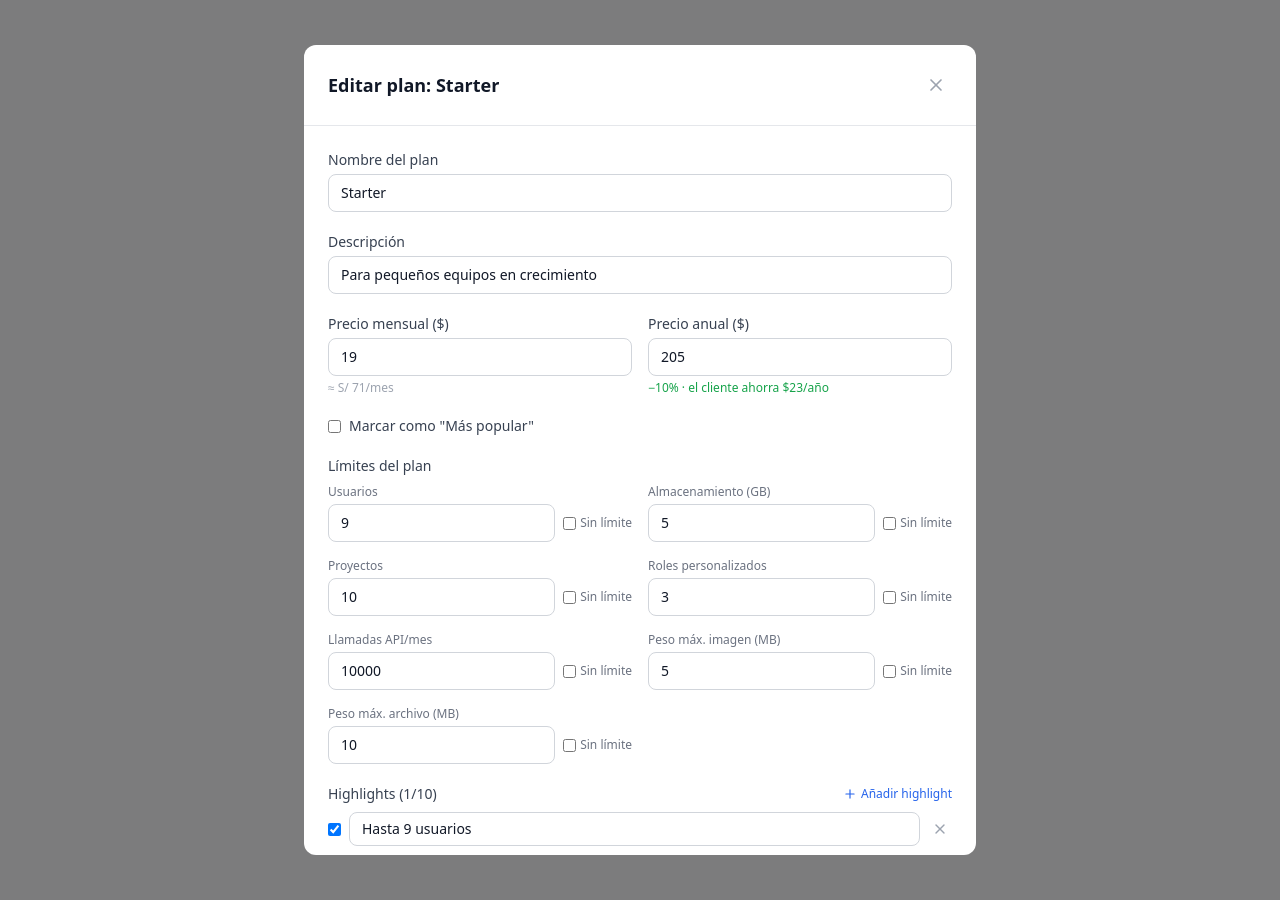
PlanEditModal — errores del backend › usa el detail del backend cuando viene
Replace the text in the number field labelled "Precio anual ($)" with "200" at x=800, y=357, box [648,338,952,376]
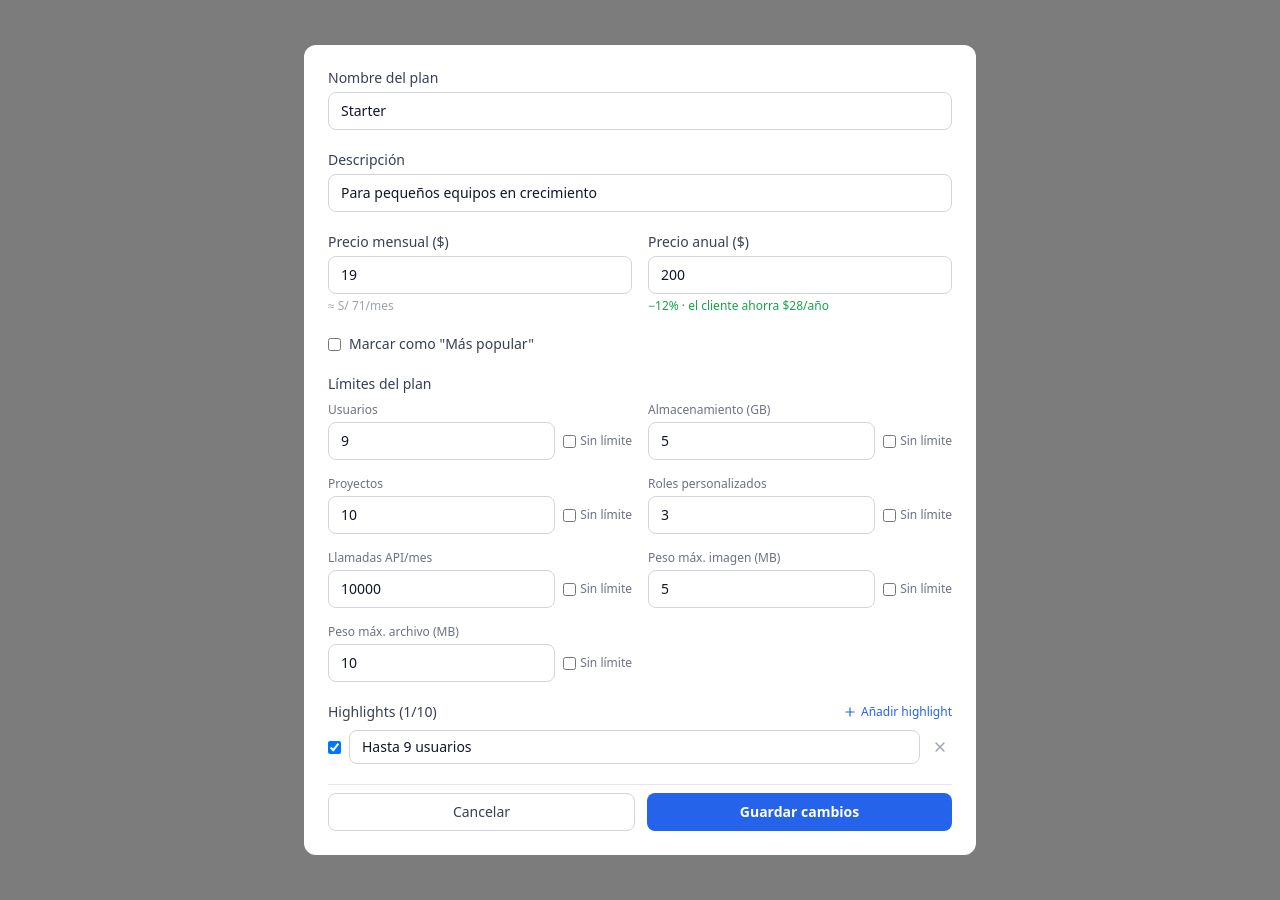
Click the button "Guardar cambios".
click(800, 812)  # box [647,793,952,831]
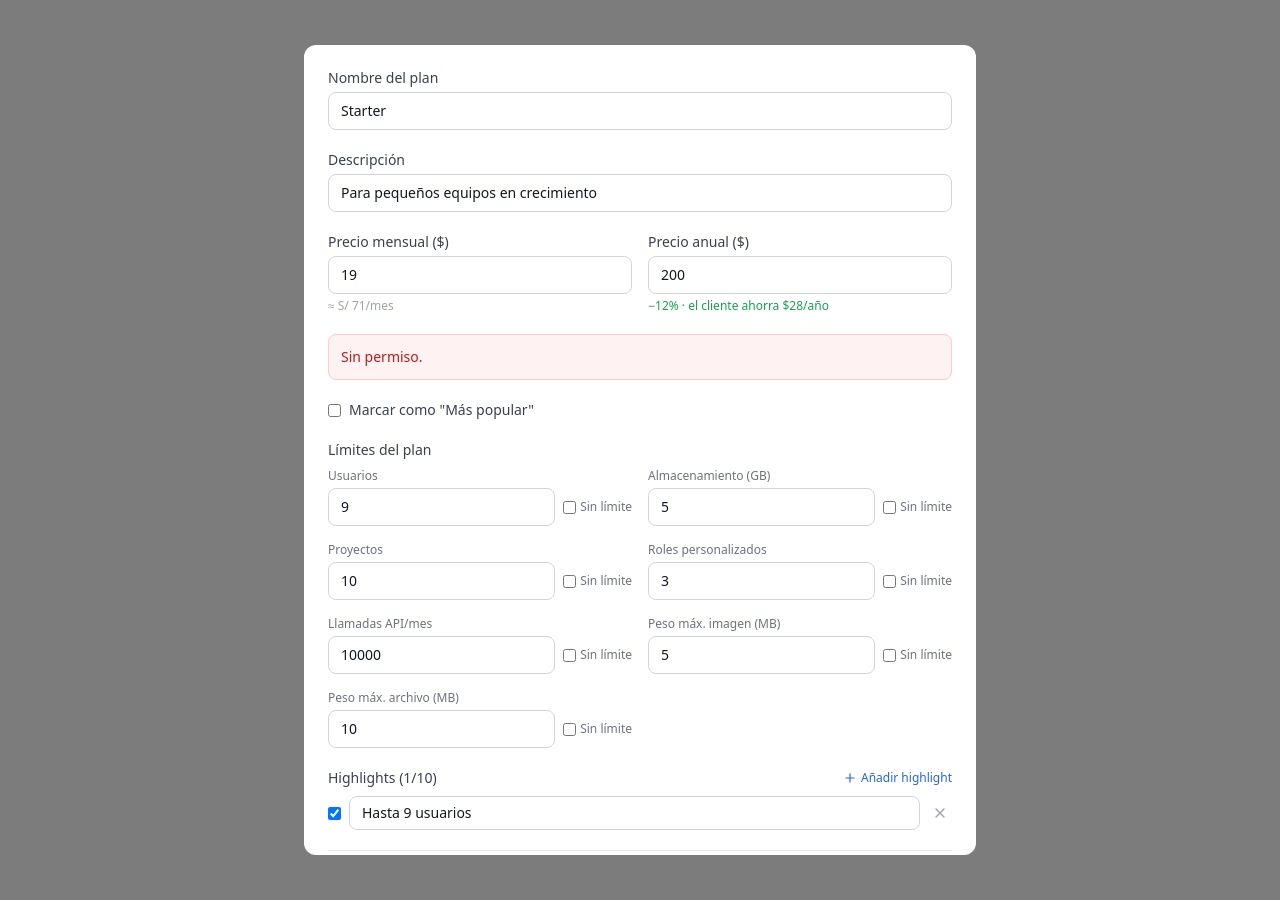
Now the message reads "Sin permiso.", box [341,347,422,366]
